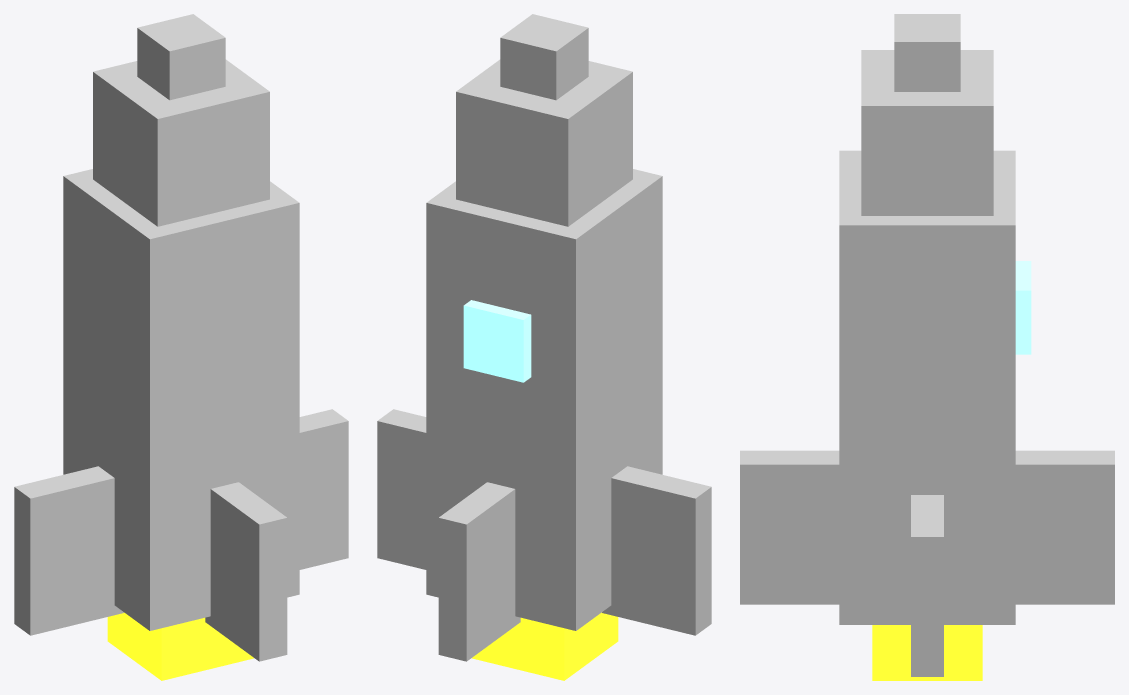
Rendered from ToyRocket.fbx.
3 renders of one model, left to right at view 1: azimuth 30°, elevation 25°; view 2: azimuth 150°, elevation 25°; view 3: azimuth 270°, elevation 25°, orthographic. The views are drawn at different scales.
Parts seen in each view (by area): view 1: Toy Rocket_body_0, Toy Rocket_body_1, Toy Rocket_body_6, Toy Rocket_body_8, Toy Rocket_body_5, Toy Rocket_body_2, Toy Rocket_body_4; view 2: Toy Rocket_body_0, Toy Rocket_body_1, Toy Rocket_body_6, Toy Rocket_body_7, Toy Rocket_body_5, Toy Rocket_body_2, Toy Rocket_body_4, Toy Rocket_body_3; view 3: Toy Rocket_body_0, Toy Rocket_body_1, Toy Rocket_body_7, Toy Rocket_body_8, Toy Rocket_body_5, Toy Rocket_body_2, Toy Rocket_body_4, Toy Rocket_body_3.
Boxes of the visible parts, x1,y1,x2,y2 form: Toy Rocket_body_0: (63, 169, 299, 630); Toy Rocket_body_1: (93, 59, 269, 226); Toy Rocket_body_6: (14, 466, 123, 635); Toy Rocket_body_8: (205, 482, 287, 661); Toy Rocket_body_5: (299, 409, 348, 569); Toy Rocket_body_2: (137, 14, 225, 100); Toy Rocket_body_4: (107, 612, 253, 680); Toy Rocket_body_0: (426, 169, 662, 630); Toy Rocket_body_1: (456, 59, 632, 226); Toy Rocket_body_6: (602, 466, 711, 635); Toy Rocket_body_7: (438, 482, 520, 661); Toy Rocket_body_5: (377, 409, 426, 569); Toy Rocket_body_2: (500, 14, 588, 100); Toy Rocket_body_4: (472, 612, 618, 680); Toy Rocket_body_3: (463, 300, 531, 382); Toy Rocket_body_0: (839, 150, 1015, 624); Toy Rocket_body_1: (861, 50, 993, 215); Toy Rocket_body_7: (1015, 450, 1114, 604); Toy Rocket_body_8: (740, 450, 839, 604); Toy Rocket_body_5: (911, 495, 943, 676); Toy Rocket_body_2: (894, 14, 960, 91); Toy Rocket_body_4: (872, 625, 982, 680); Toy Rocket_body_3: (1015, 261, 1031, 354).
Size of the model in its own units: 170 by 315 by 170.
